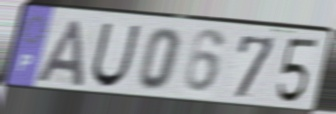0: (137, 25, 183, 94)
5: (275, 36, 321, 105)
6: (181, 26, 227, 101)
7: (234, 34, 278, 100)
A: (34, 17, 86, 88)
U: (89, 20, 143, 90)
